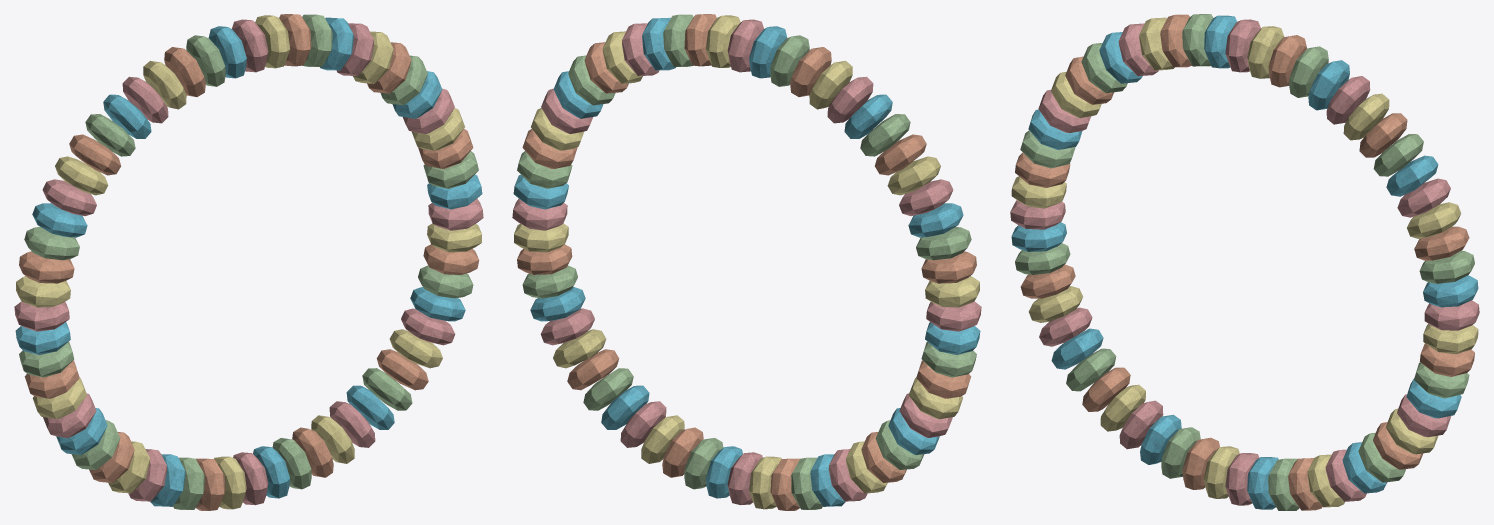
File: CandyNecklace.glb
3 views of the same model, side by side, from view 1: azimuth 30°, elevation 25°; view 2: azimuth 150°, elevation 25°; view 3: azimuth 330°, elevation 25° (orthographic).
Visible parts, largest first — view 1: CandyNecklace; view 2: CandyNecklace; view 3: CandyNecklace.
Boxes of the visible parts, left/top/right/bottom form: CandyNecklace: left=14, top=14, right=483, bottom=510; CandyNecklace: left=512, top=14, right=981, bottom=510; CandyNecklace: left=1010, top=14, right=1479, bottom=510.
Bounding box in the file's own units: 63.4 × 63.37 × 6.66.
1 material, 1 textured.
